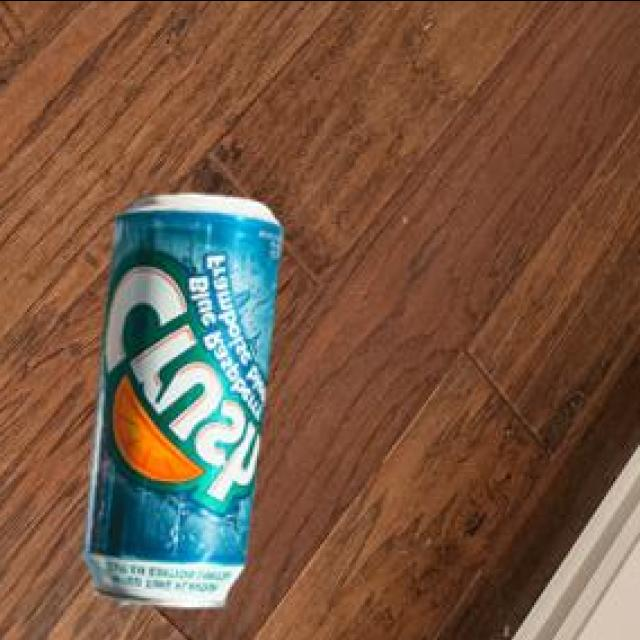logam: (87, 197, 285, 610)
